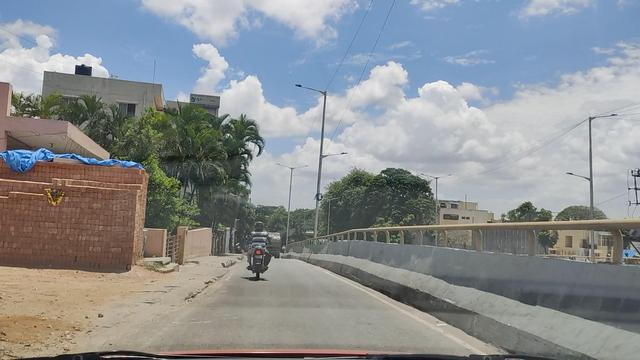LMV: (244, 218, 276, 277)
